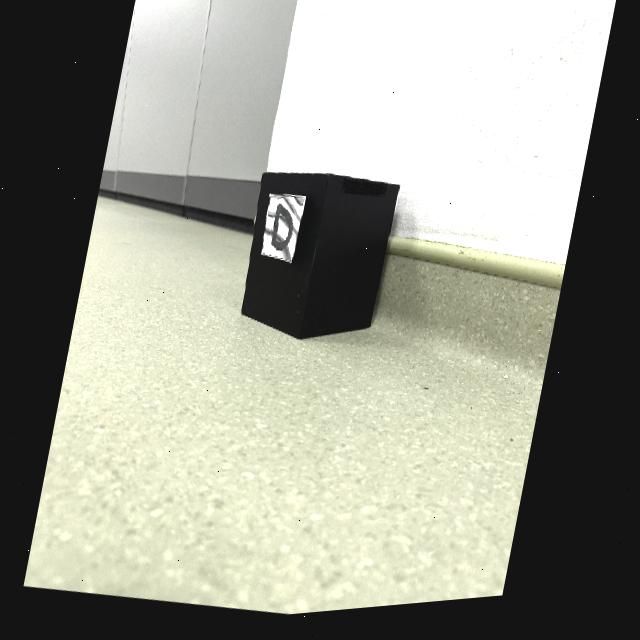D: (271, 210, 293, 255)
